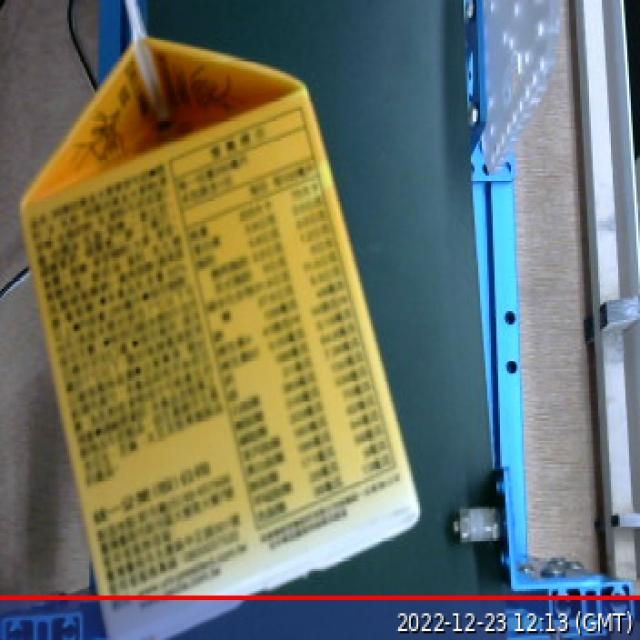non_white_jug: (8, 0, 435, 640)
